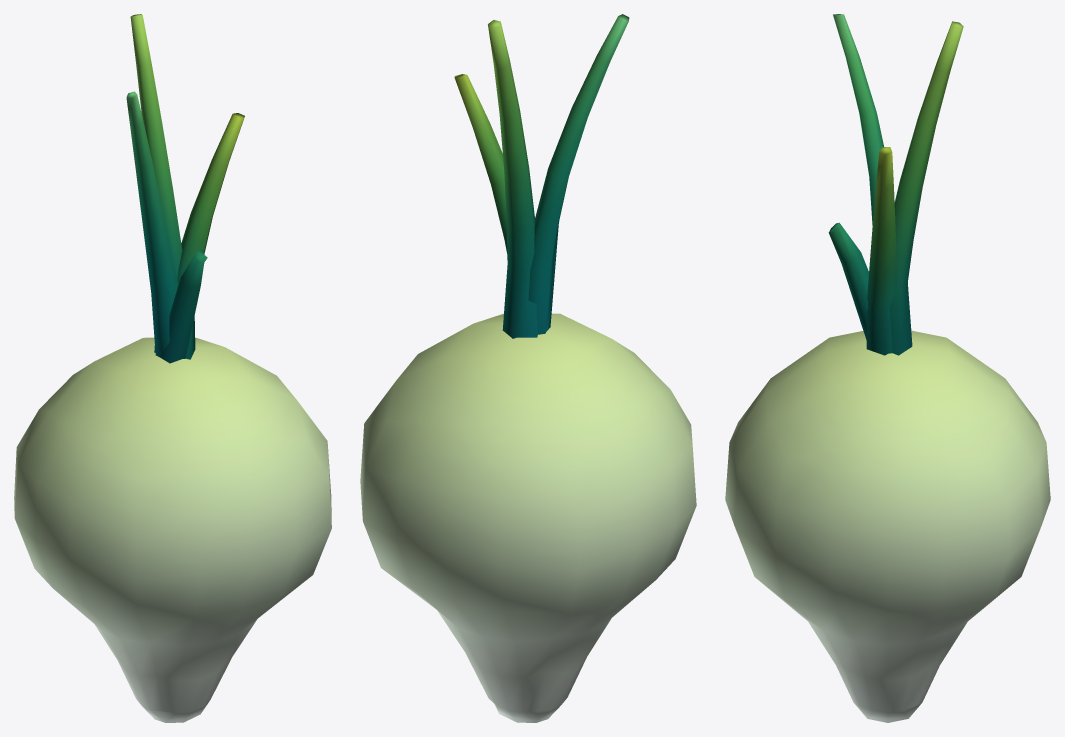
3 renders of one model, left to right at view 1: azimuth 30°, elevation 25°; view 2: azimuth 150°, elevation 25°; view 3: azimuth 270°, elevation 25°, orthographic. The views are drawn at different scales.
Parts seen in each view (by area): view 1: 7-15; view 2: 7-15; view 3: 7-15.
Part boxes in pixels (x1=…): 7-15: x1=14, y1=14, x2=331, y2=722; 7-15: x1=360, y1=14, x2=696, y2=722; 7-15: x1=725, y1=14, x2=1050, y2=722.
Bounding box in the file's own units: 7.81 × 18.37 × 7.81.
